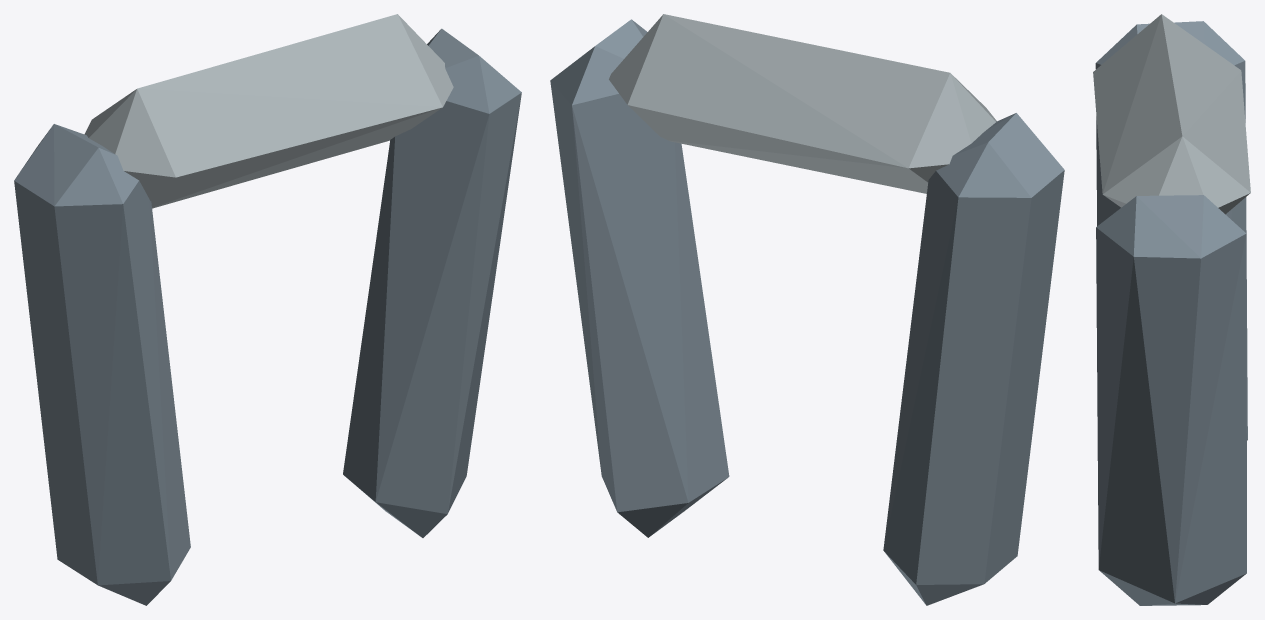
The model's file is Rock_04_LOD1.fbx.
The picture shows the model from 3 angles, left to right: view 1: azimuth 30°, elevation 25°; view 2: azimuth 150°, elevation 25°; view 3: azimuth 270°, elevation 25°; orthographic projection. The views are drawn at different scales.
Visible parts, largest first — view 1: Rock_04_LOD1; view 2: Rock_04_LOD1; view 3: Rock_04_LOD1.
Boxes of the visible parts, x1=… form: Rock_04_LOD1: x1=14, y1=14, x2=521, y2=605; Rock_04_LOD1: x1=550, y1=14, x2=1064, y2=605; Rock_04_LOD1: x1=1093, y1=14, x2=1250, y2=605.
Bounding box in the file's own units: 225 × 230 × 70.13.
